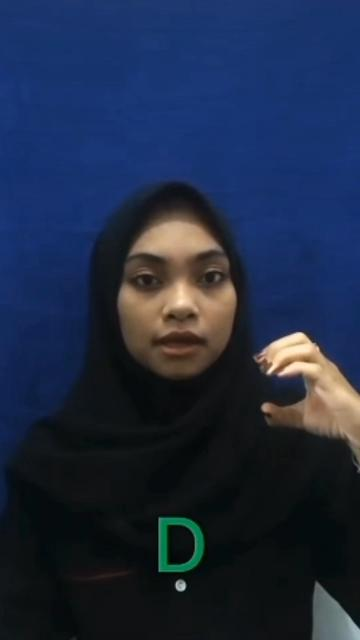C: (248, 328, 360, 446)
